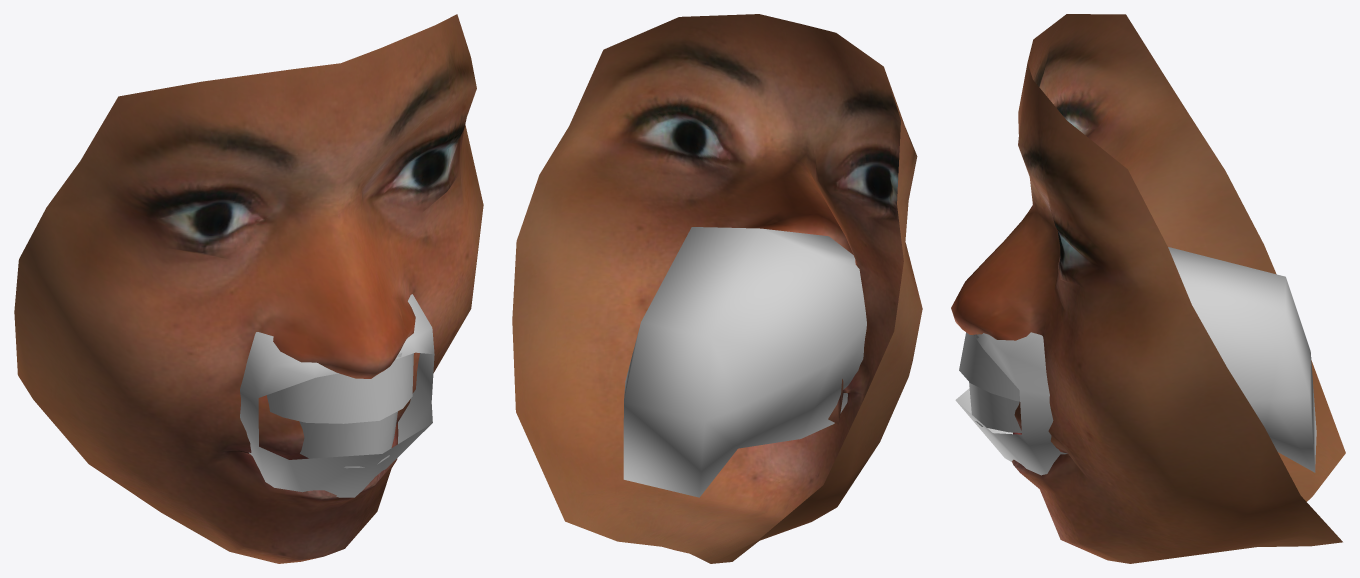
Rendered from meshExportDae.dae.
The picture shows the model from 3 angles, left to right: view 1: azimuth 30°, elevation 25°; view 2: azimuth 150°, elevation 25°; view 3: azimuth 270°, elevation 25°; orthographic projection. The views are drawn at different scales.
Parts seen in each view (by area): view 1: JaneLoresFace, MouthSmall; view 2: JaneLoresFace, MouthSmall; view 3: JaneLoresFace, MouthSmall.
Boxes of the visible parts, x1,y1,x2,y2 form: JaneLoresFace: (14,14,483,563); MouthSmall: (240,294,434,497); JaneLoresFace: (512,14,922,563); MouthSmall: (623,227,866,497); JaneLoresFace: (951,14,1345,563); MouthSmall: (955,247,1316,475).
Bounding box in the file's own units: 143 × 168 × 122.
